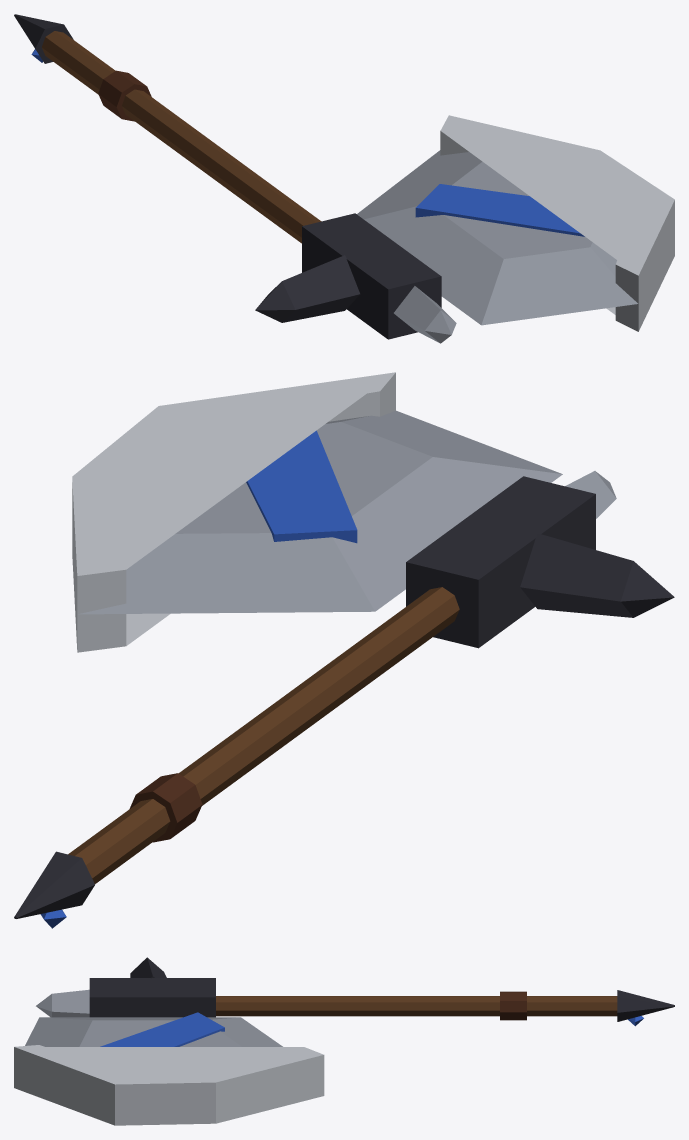
Rendered from 06_Battle_Axe.glb.
3 renders of one model, top to bottom at view 1: azimuth 30°, elevation 25°; view 2: azimuth 150°, elevation 25°; view 3: azimuth 270°, elevation 25°, orthographic. The views are drawn at different scales.
Visible parts, largest first — view 1: 06_Battle_Axe; view 2: 06_Battle_Axe; view 3: 06_Battle_Axe.
Part boxes in pixels (bbox=[...]): 06_Battle_Axe: bbox=[14, 14, 674, 343]; 06_Battle_Axe: bbox=[14, 372, 674, 928]; 06_Battle_Axe: bbox=[14, 957, 674, 1125].
Size of the model in its own units: 0.7491 by 0.1454 by 1.47.
